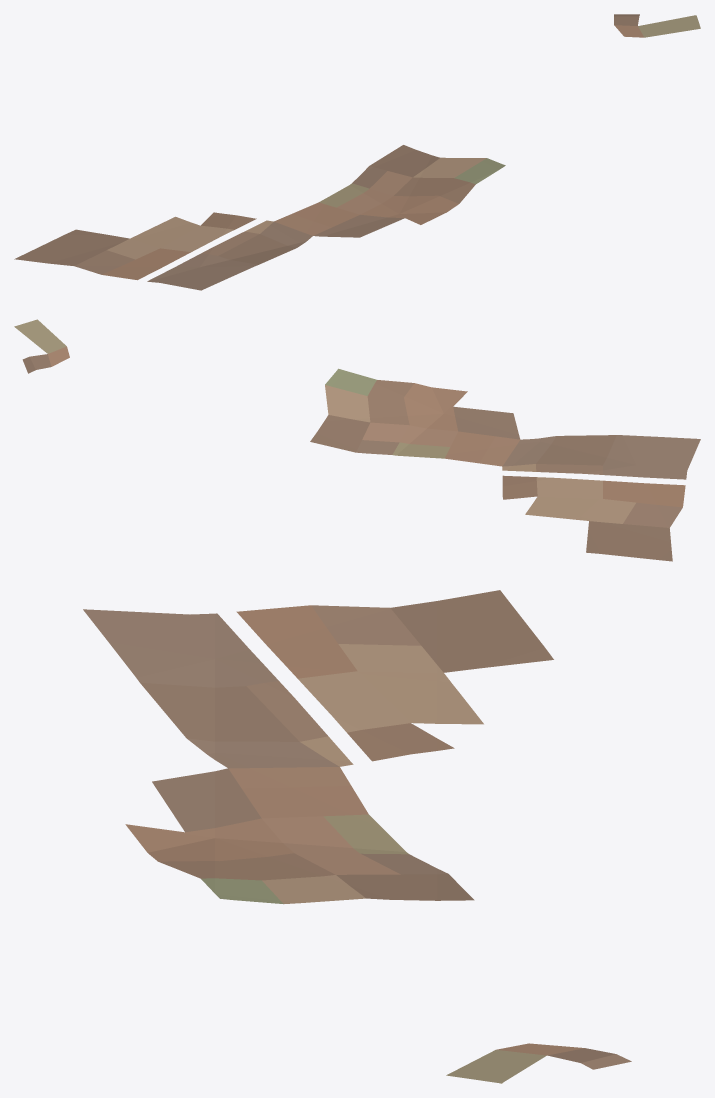
The model's file is farm_-3_-4_soil.glb.
3 renders of one model, top to bottom at view 1: azimuth 30°, elevation 25°; view 2: azimuth 150°, elevation 25°; view 3: azimuth 270°, elevation 25°, orthographic. The views are drawn at different scales.
Parts seen in each view (by area): view 1: geometry_0; view 2: geometry_0; view 3: geometry_0.
Part boxes in pixels (x1=…): geometry_0: x1=14, y1=14, x2=700, y2=290; geometry_0: x1=14, y1=319, x2=700, y2=561; geometry_0: x1=83, y1=590, x2=631, y2=1083.
Bounding box in the file's own units: 547 × 59.2 × 198.
